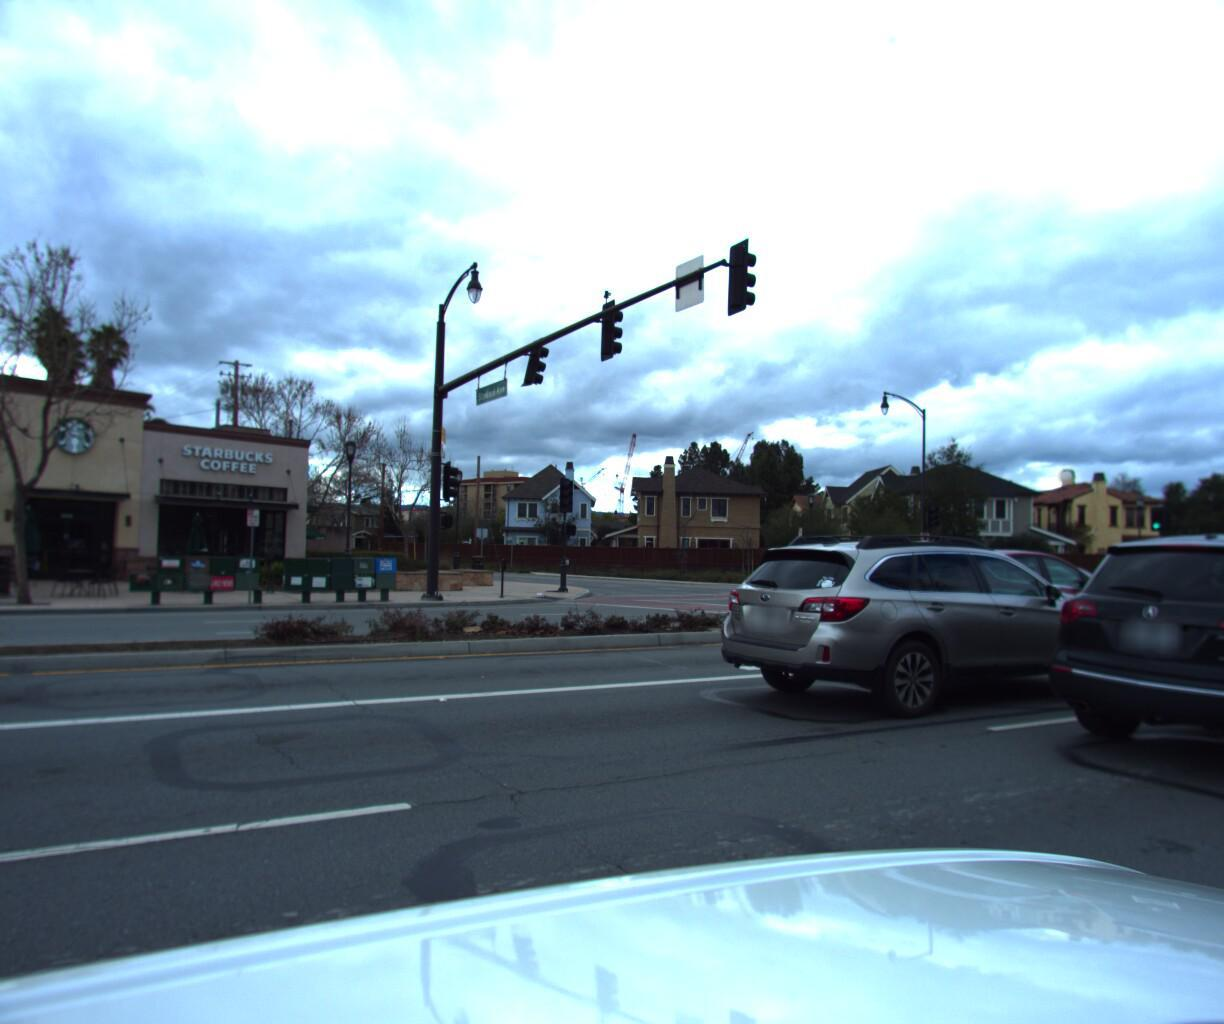car: (712, 521, 1158, 727), (1021, 507, 1224, 814), (876, 548, 1135, 662), (0, 441, 29, 759)
